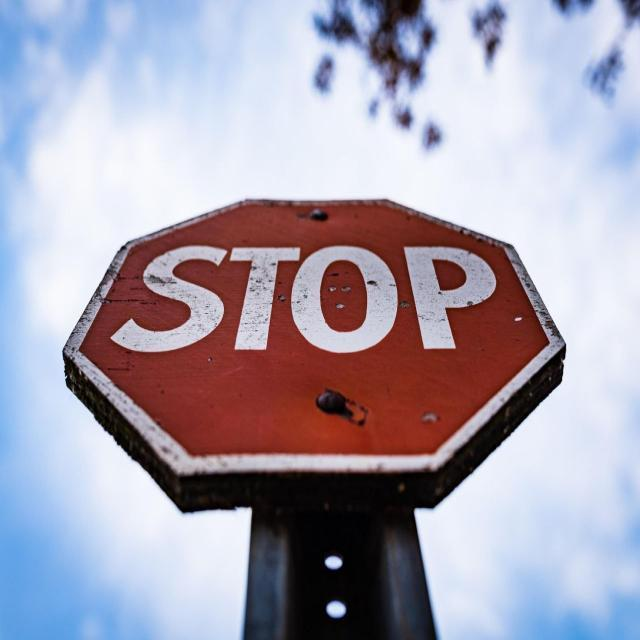stop: (74, 186, 568, 487)
